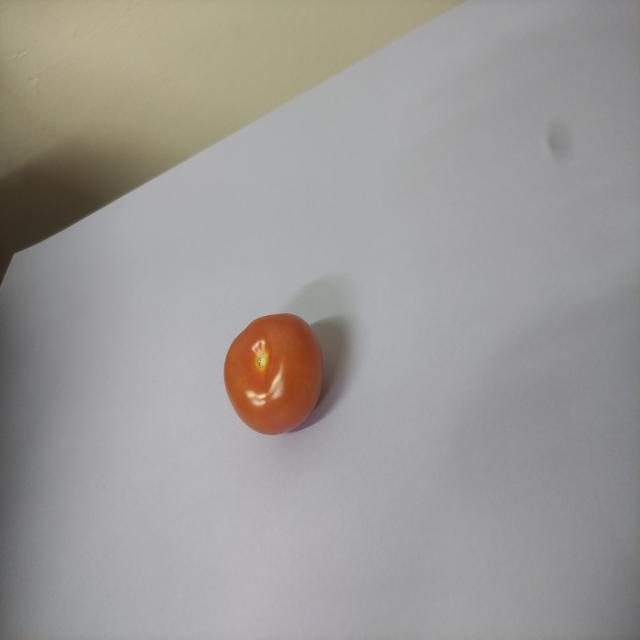sari: (213, 308, 331, 439)
